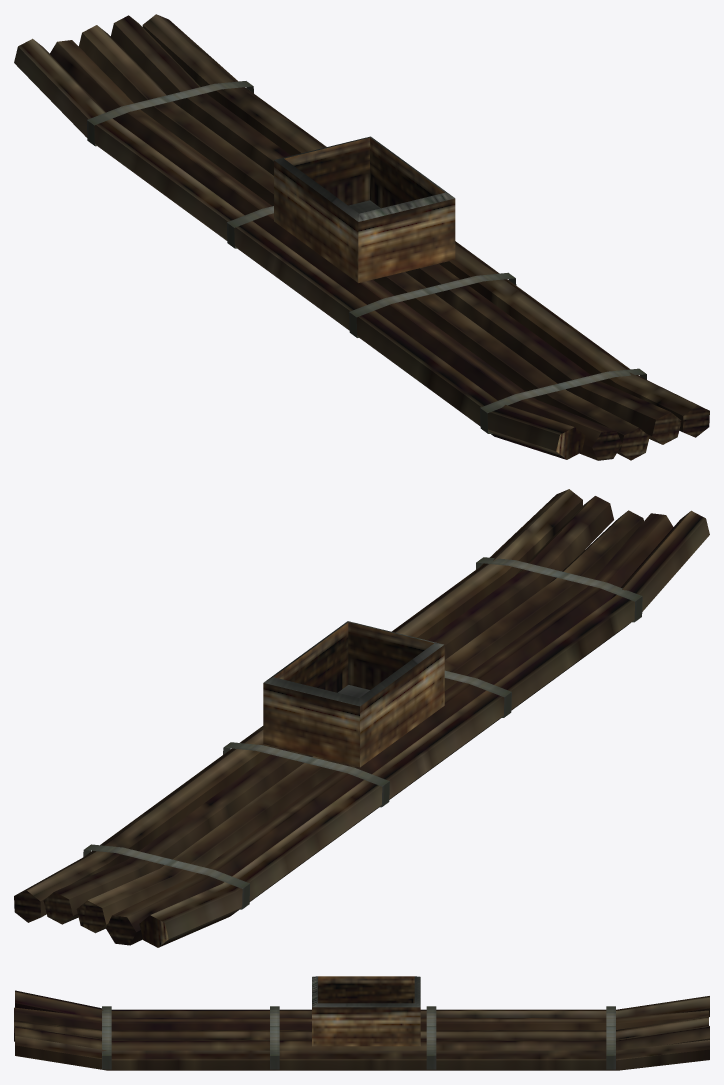
File: chin_fishing.dae
The picture shows the model from 3 angles, top to bottom: view 1: azimuth 30°, elevation 25°; view 2: azimuth 150°, elevation 25°; view 3: azimuth 270°, elevation 25°; orthographic projection. The views are drawn at different scales.
Visible parts, largest first — view 1: Tube; view 2: Tube; view 3: Tube.
Part boxes in pixels (x1,y1,x2,y2): Tube: (14,14,709,460); Tube: (14,489,709,947); Tube: (14,976,709,1070).
Size of the model in its own units: 2.99 by 17.6 by 1.74.
